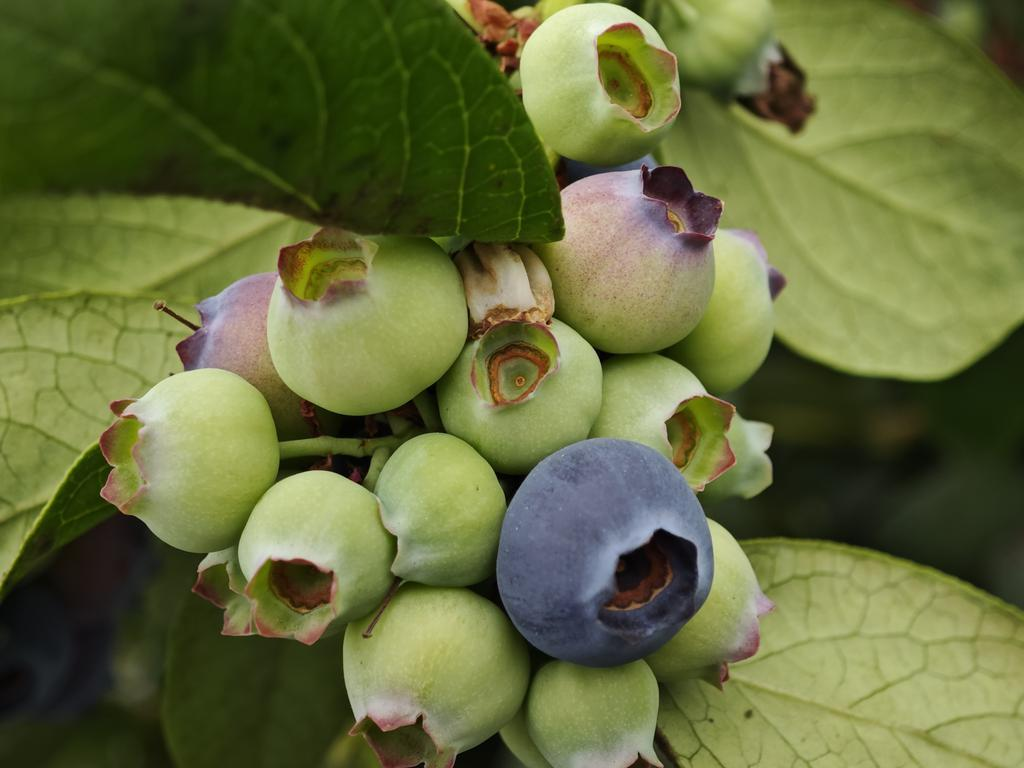RipeBlueBerry: (495, 435, 716, 665)
UnripeBlueBerry: (262, 208, 471, 420), (235, 468, 396, 645), (520, 3, 684, 165)
